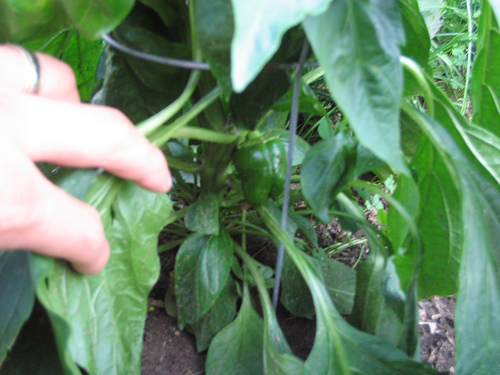capsicum: (231, 136, 289, 207)
